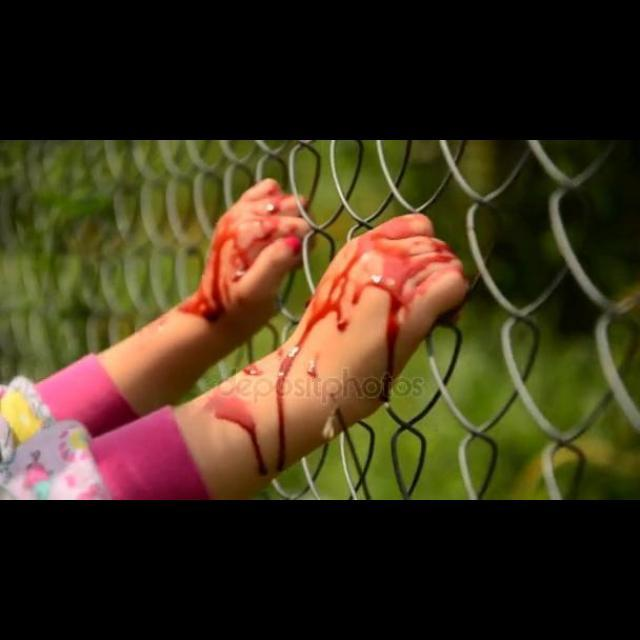blood: (276, 215, 464, 472), (178, 179, 306, 321), (205, 394, 268, 475), (306, 359, 319, 378), (243, 364, 263, 376)
